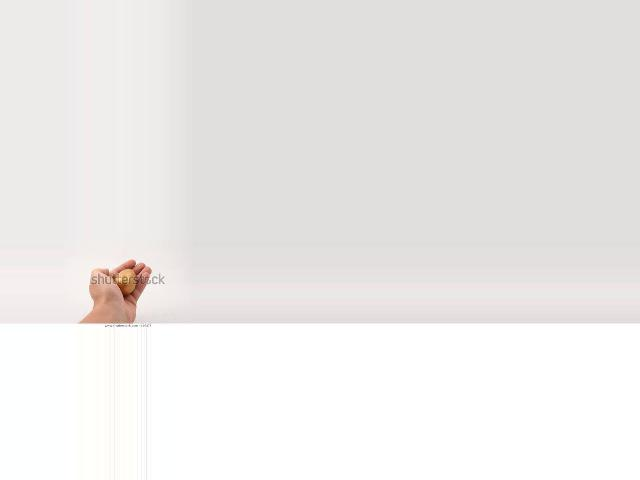egg: (115, 269, 136, 295)
